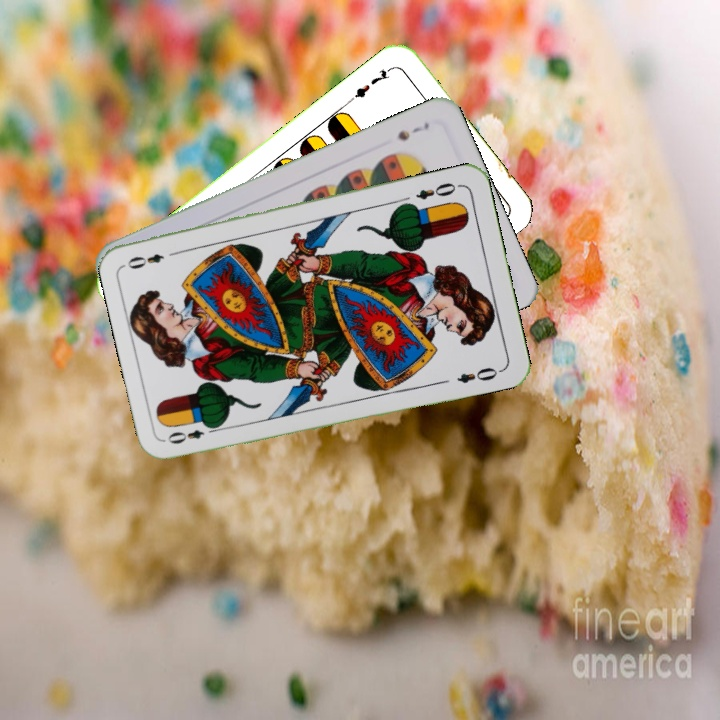E7: (346, 62, 396, 105)
EO: (163, 420, 221, 447), (412, 178, 463, 202)
S7: (393, 118, 432, 144)
